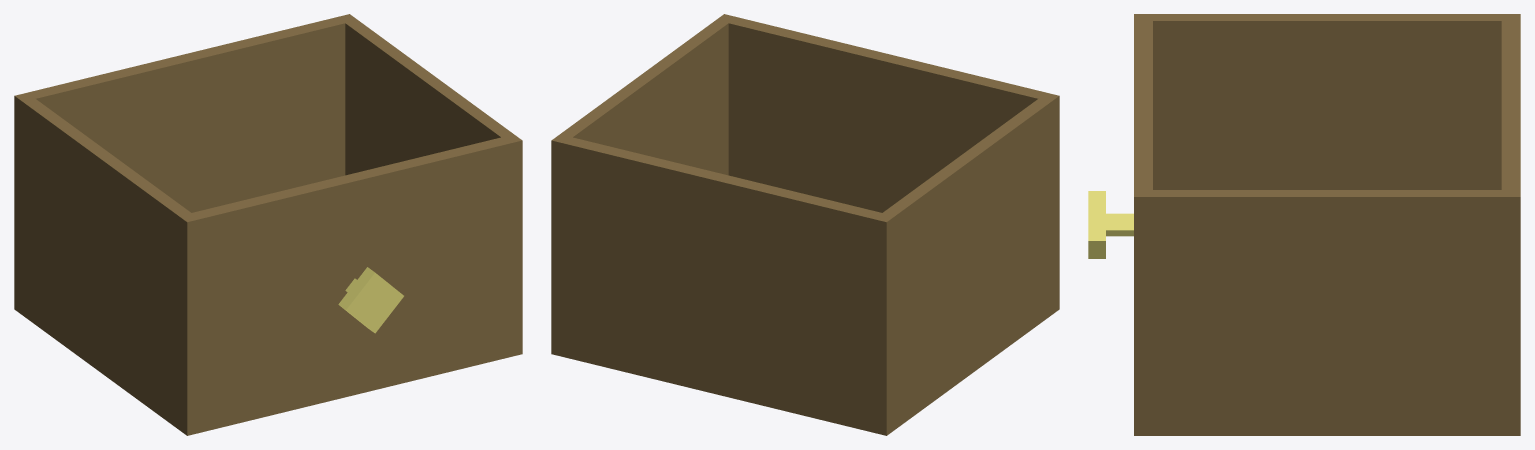
File: Itr_Desk_Drawer_Inside2_01.FBX
3 renders of one model, left to right at view 1: azimuth 30°, elevation 25°; view 2: azimuth 150°, elevation 25°; view 3: azimuth 270°, elevation 25°, orthographic. The views are drawn at different scales.
Parts seen in each view (by area): view 1: Itr_Desk_Drawer_Inside2_01; view 2: Itr_Desk_Drawer_Inside2_01; view 3: Itr_Desk_Drawer_Inside2_01.
Boxes of the visible parts, x1,y1,x2,y2 form: Itr_Desk_Drawer_Inside2_01: (14,14,522,435); Itr_Desk_Drawer_Inside2_01: (551,14,1059,435); Itr_Desk_Drawer_Inside2_01: (1088,14,1520,435).
Size of the model in its own units: 14.4 by 8.77 by 14.37.
